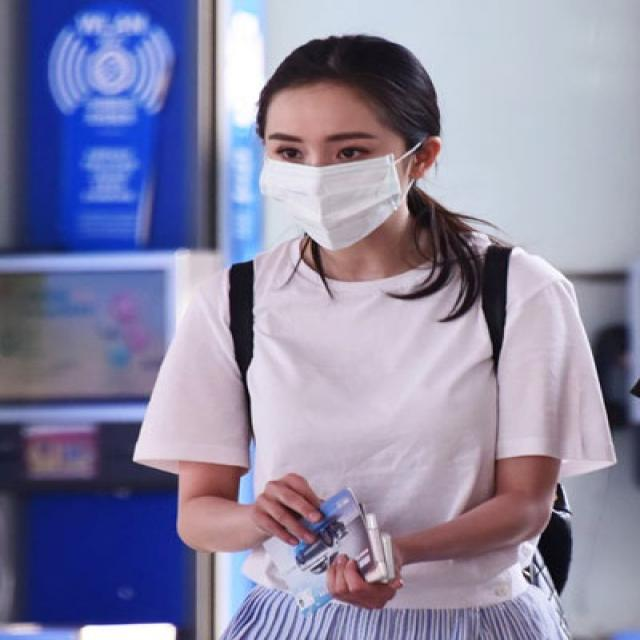mask: (262, 81, 403, 253)
